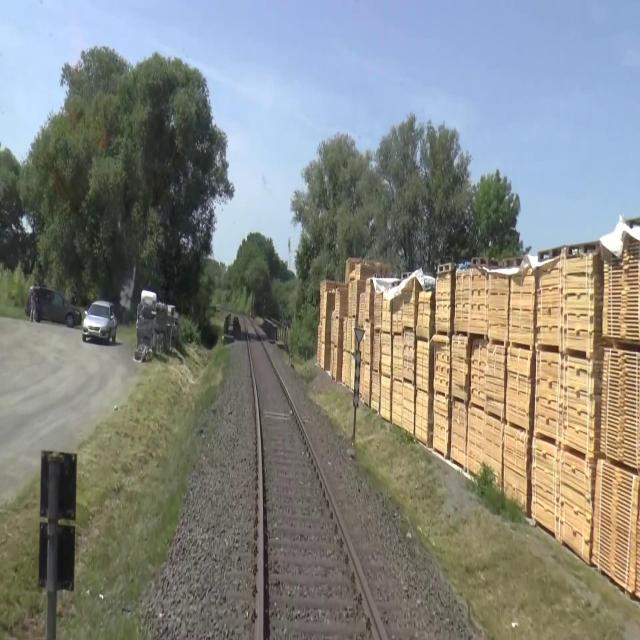rail-track: (244, 318, 381, 639)
